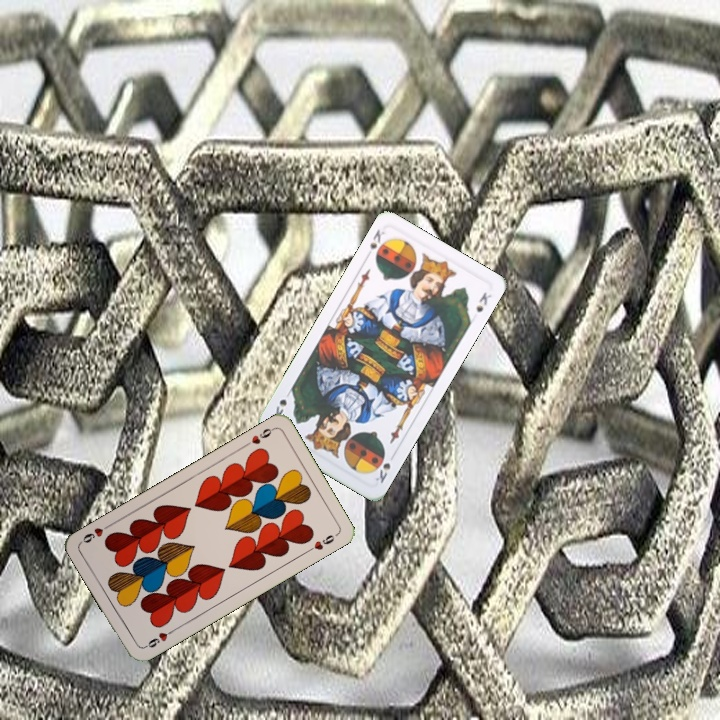H9: (240, 424, 277, 450), (140, 625, 177, 651)
SK: (361, 225, 389, 263), (371, 449, 398, 486)
